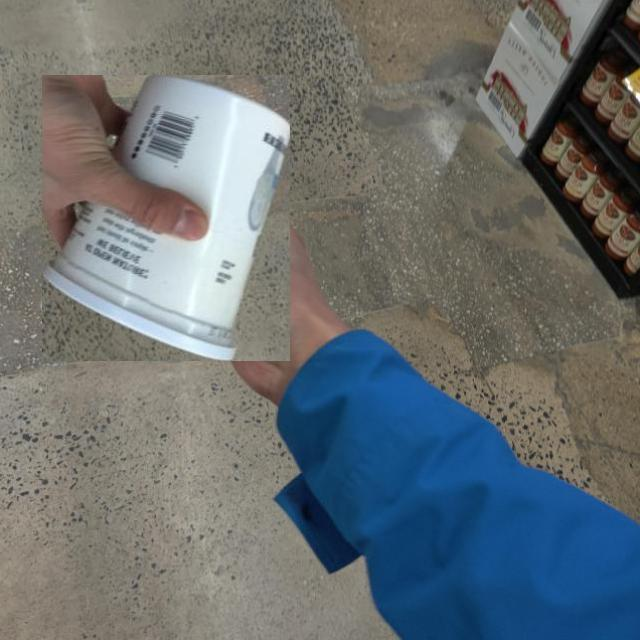Yogurt: (42, 74, 290, 361)
